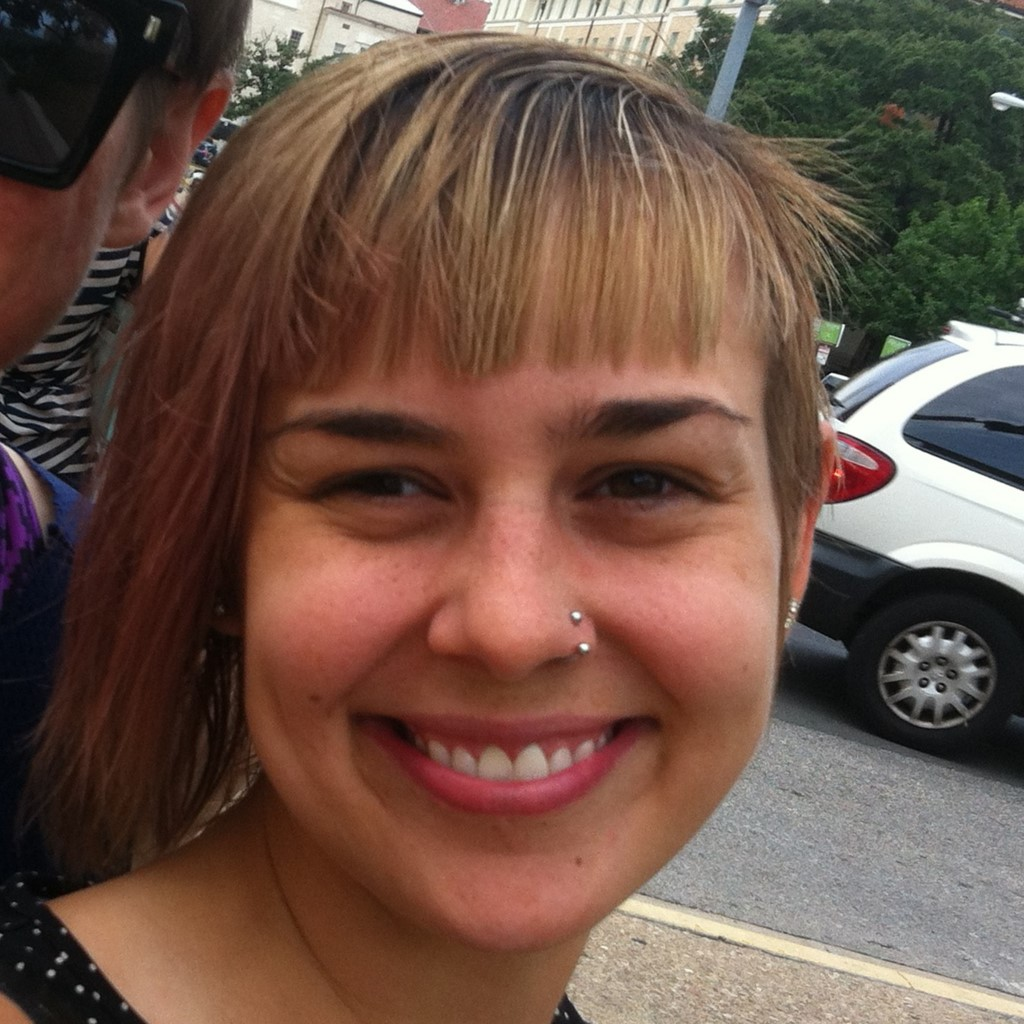sin_mascara: (208, 134, 821, 960)
